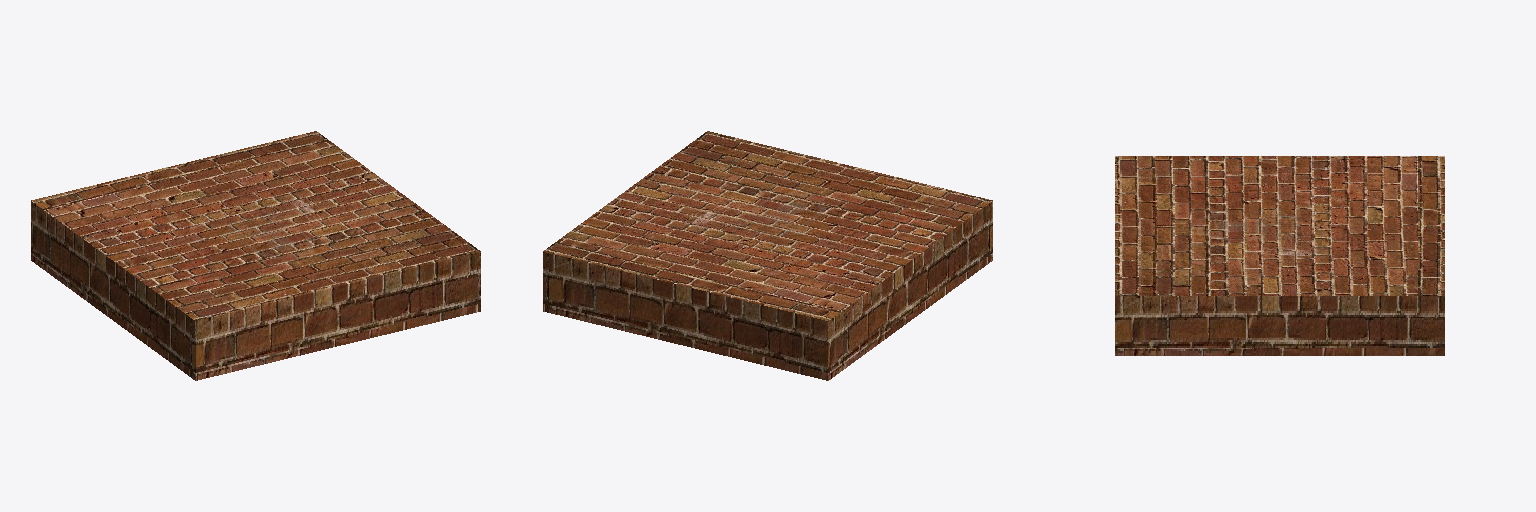
The picture shows the model from 3 angles: view 1: azimuth 30°, elevation 25°; view 2: azimuth 150°, elevation 25°; view 3: azimuth 270°, elevation 25°; orthographic projection.
Visible parts, largest first — view 1: Cube_Cube.002; view 2: Cube_Cube.002; view 3: Cube_Cube.002.
Boxes of the visible parts, box(x1,y1,x2,y2) form: Cube_Cube.002: box(31, 131, 480, 380); Cube_Cube.002: box(543, 131, 992, 380); Cube_Cube.002: box(1115, 156, 1444, 355).
Bounding box in the file's own units: 1 × 0.2 × 1.
Materials: 1 (1 with a texture image).